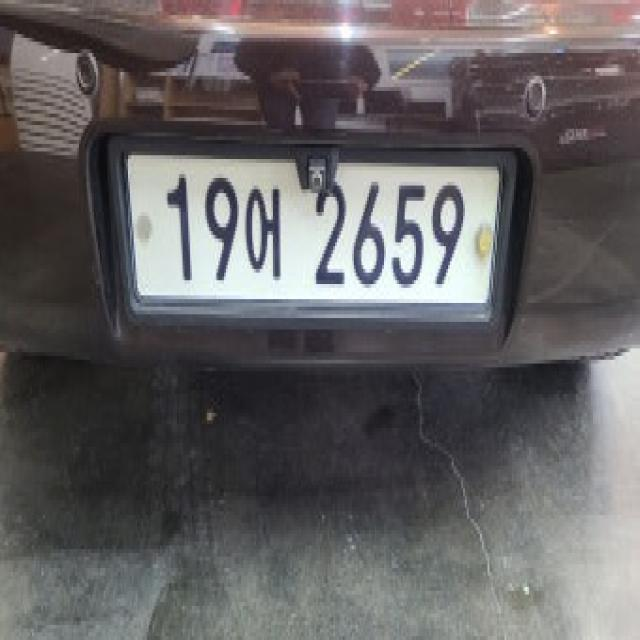car: (61, 85, 567, 382)
